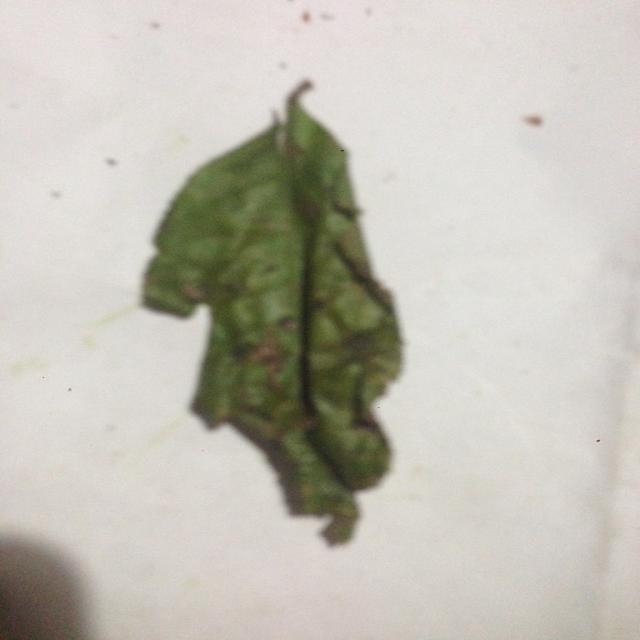Red Leaf Spot: (109, 64, 458, 546)
